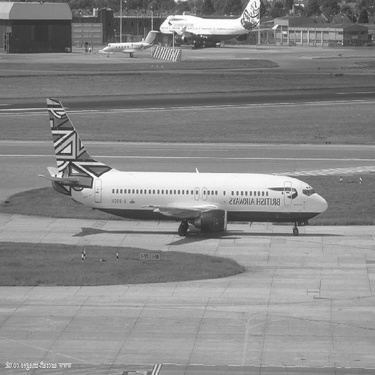airplane: (30, 92, 336, 246), (151, 1, 277, 48), (96, 22, 162, 59)
